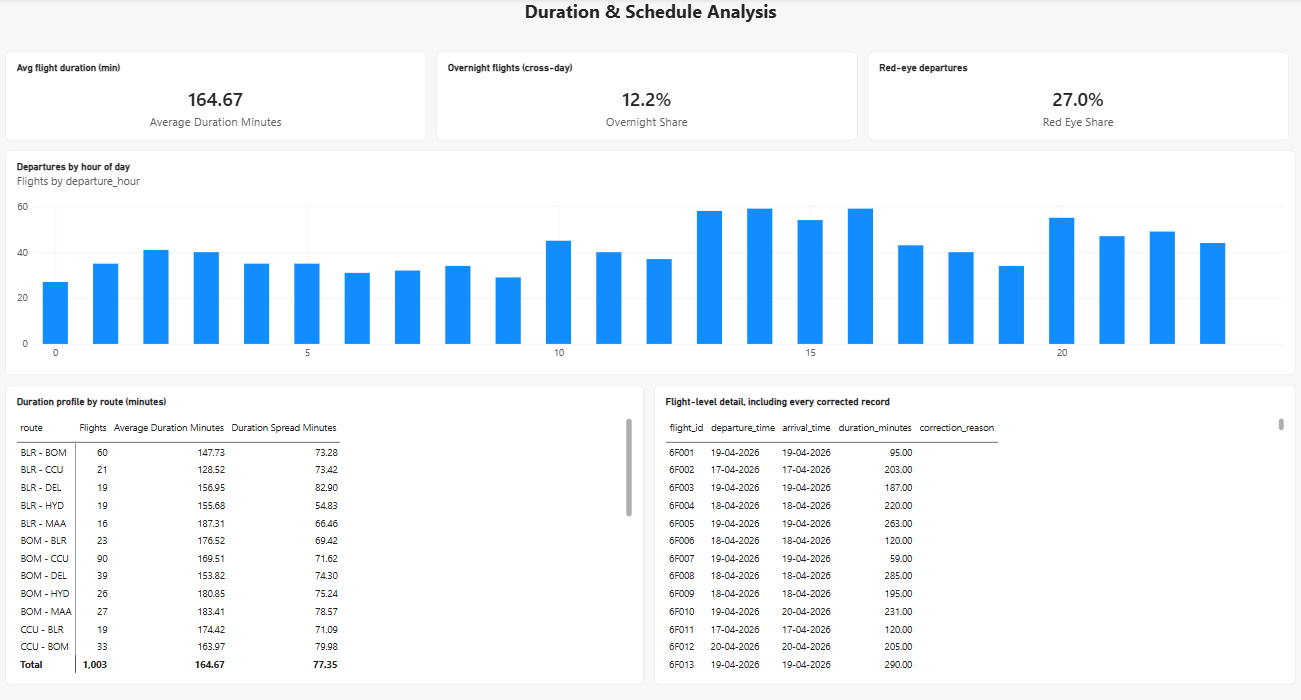

The page's visual inventory and layout, read from the dashboard file:
{"tool":"powerbi","page":{"name":"Duration & Schedule","canvas":[1920,1080],"ordinal":1},"visuals":[{"type":"textbox","box":[10,0,1900,70],"z":0},{"type":"card","title":"Avg flight duration (min)","fields":{"Values":["_Measures.Average Duration Minutes"]},"box":[10,80,620,130],"z":100},{"type":"card","title":"Overnight flights (cross-day)","fields":{"Values":["_Measures.Overnight Share"]},"box":[645,80,620,130],"z":101},{"type":"card","title":"Red-eye departures","fields":{"Values":["_Measures.Red Eye Share"]},"box":[1280,80,620,130],"z":102},{"type":"clusteredColumnChart","title":"Departures by hour of day","fields":{"Category":["fact_flight.departure_hour"],"Y":["_Measures.Flights"]},"box":[10,225,1900,330],"z":200},{"type":"pivotTable","title":"Duration profile by route (minutes)","fields":{"Rows":["dim_route.route"],"Values":["_Measures.Flights","_Measures.Average Duration Minutes","_Measures.Duration Spread Minutes"]},"box":[10,570,940,440],"z":210},{"type":"tableEx","title":"Flight-level detail, including every corrected record","fields":{"Values":["fact_flight.flight_id","fact_flight.departure_time","fact_flight.arrival_time","fact_flight.duration_minutes","fact_flight.correction_reason"]},"box":[965,570,945,440],"z":220}]}

Visuals, with their boxes on the page's 1920x1080 design canvas (x1, y1, x2, y2). These are canvas units, not pixel positions in the 1301x700 screenshot, which may show the page scaled, cropped or inside an application window:
textbox: <bbox>10, 0, 1910, 70</bbox>
"Avg flight duration (min)" card: <bbox>10, 80, 630, 210</bbox>
"Overnight flights (cross-day)" card: <bbox>645, 80, 1265, 210</bbox>
"Red-eye departures" card: <bbox>1280, 80, 1900, 210</bbox>
"Departures by hour of day" clusteredColumnChart: <bbox>10, 225, 1910, 555</bbox>
"Duration profile by route (minutes)" pivotTable: <bbox>10, 570, 950, 1010</bbox>
"Flight-level detail, including every corrected record" tableEx: <bbox>965, 570, 1910, 1010</bbox>
